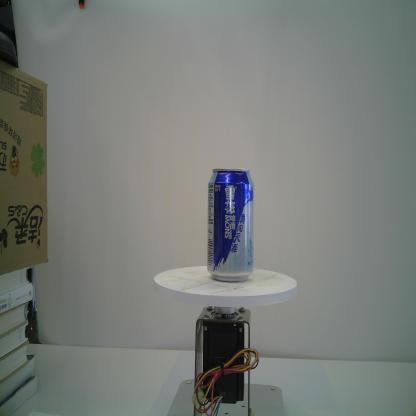Alcohol: (205, 164, 255, 286)
